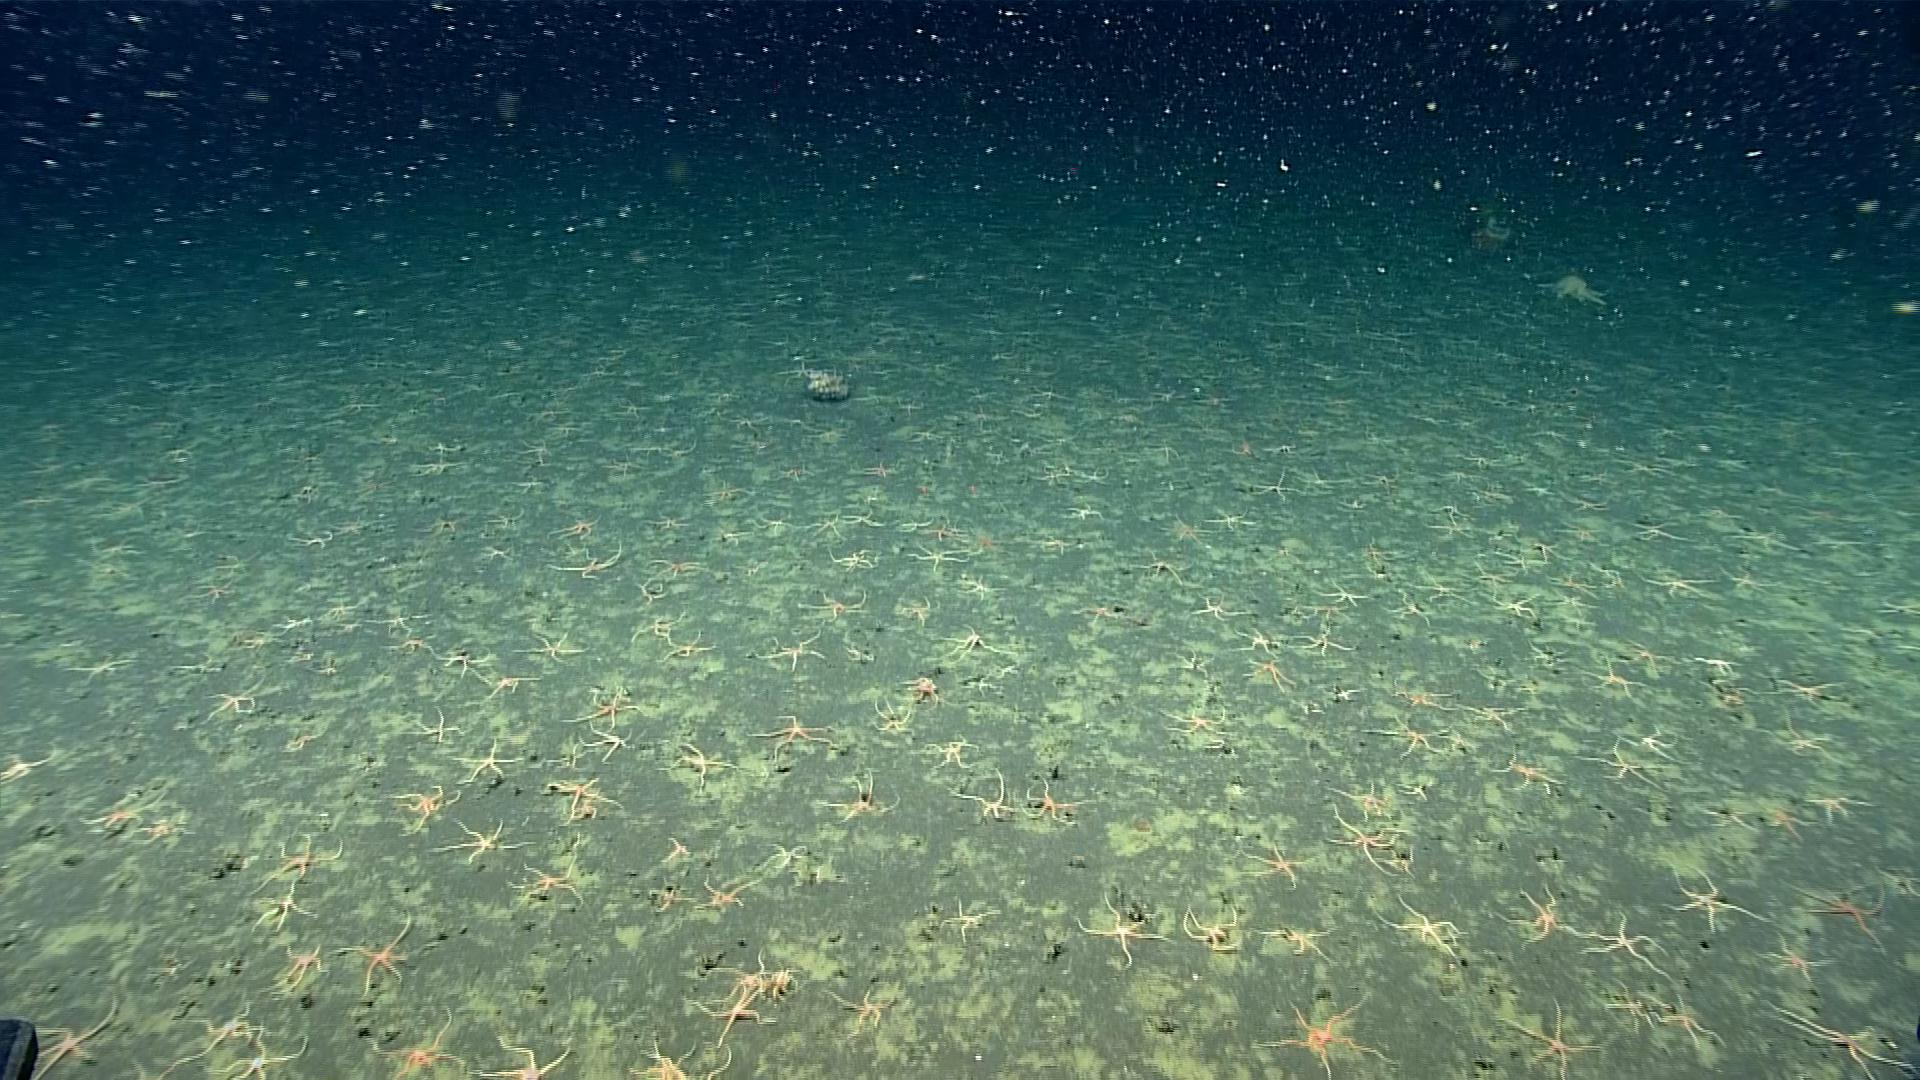brittle_sea_star: (1249, 990, 1398, 1076), (1767, 997, 1909, 1079), (1498, 996, 1607, 1079), (1565, 911, 1680, 985), (1652, 865, 1770, 934), (1779, 876, 1894, 945), (26, 994, 117, 1079), (1075, 891, 1167, 968), (368, 1007, 464, 1079), (1374, 890, 1468, 963), (331, 916, 413, 997), (1494, 882, 1594, 947), (244, 833, 342, 893), (683, 985, 778, 1046), (1328, 803, 1400, 882), (1573, 736, 1675, 790), (222, 1023, 311, 1079), (709, 951, 800, 1005), (1651, 993, 1726, 1055), (426, 819, 525, 865), (632, 1034, 733, 1079), (748, 712, 833, 765), (823, 770, 901, 827), (1756, 932, 1836, 988), (76, 786, 166, 835), (182, 1002, 252, 1064), (506, 852, 585, 906), (1762, 713, 1845, 765), (388, 783, 463, 839), (542, 775, 622, 827), (655, 740, 737, 790), (506, 615, 580, 669), (1255, 918, 1342, 963), (1365, 713, 1453, 757), (487, 1034, 571, 1079), (947, 769, 1018, 822), (823, 985, 895, 1036), (451, 740, 527, 787), (1019, 777, 1095, 824), (1575, 653, 1647, 699), (1489, 746, 1561, 793), (249, 881, 314, 932), (756, 629, 829, 673), (1183, 901, 1244, 953), (1385, 675, 1460, 717), (1160, 704, 1236, 744), (935, 899, 1002, 943), (1327, 775, 1400, 815), (564, 690, 636, 731), (202, 678, 266, 723), (547, 543, 622, 582), (268, 943, 324, 993), (1601, 978, 1654, 1031), (1241, 841, 1302, 886), (696, 874, 758, 915), (1457, 700, 1527, 736), (67, 653, 133, 690), (1625, 720, 1681, 762), (578, 727, 636, 767), (638, 550, 716, 580), (1381, 585, 1435, 629), (1133, 550, 1195, 587), (1184, 591, 1253, 624), (1298, 626, 1361, 662), (1419, 571, 1480, 608), (1642, 571, 1722, 599), (0, 738, 53, 781), (1242, 653, 1300, 691), (799, 588, 866, 621), (907, 538, 975, 571), (1249, 465, 1303, 506), (936, 621, 998, 657), (368, 604, 434, 637), (753, 839, 816, 873), (1731, 525, 1803, 555), (625, 612, 692, 644), (542, 509, 605, 542), (1768, 675, 1844, 703), (927, 733, 978, 773), (1160, 512, 1215, 547), (868, 698, 915, 737), (824, 546, 887, 575), (1804, 794, 1876, 819), (1201, 501, 1258, 533), (655, 640, 716, 669), (481, 670, 541, 699), (402, 458, 471, 483), (187, 572, 237, 607), (413, 705, 458, 744), (436, 645, 491, 676), (1721, 566, 1779, 595), (313, 592, 363, 625), (1469, 554, 1511, 592), (649, 877, 692, 914), (1625, 517, 1688, 542), (637, 502, 688, 533), (1321, 580, 1371, 611), (513, 436, 558, 469), (1495, 547, 1548, 575), (1071, 599, 1125, 625), (955, 570, 1000, 601), (1360, 535, 1399, 571), (1759, 804, 1805, 835), (798, 512, 844, 542), (384, 628, 431, 657), (699, 480, 753, 505), (286, 526, 336, 553), (630, 574, 670, 607), (1490, 592, 1539, 618), (1237, 628, 1283, 655), (837, 504, 884, 531), (895, 593, 934, 626), (599, 452, 647, 477), (269, 611, 315, 636), (753, 509, 796, 535), (421, 512, 465, 537), (1553, 607, 1598, 632), (135, 819, 177, 845), (481, 508, 527, 531), (775, 456, 815, 483), (902, 675, 940, 702), (924, 518, 964, 543), (1063, 500, 1104, 524), (659, 833, 694, 861), (861, 455, 898, 480), (1035, 533, 1075, 555), (235, 630, 276, 651), (476, 541, 513, 563), (1553, 591, 1596, 609), (898, 516, 935, 535), (1564, 524, 1605, 541)
